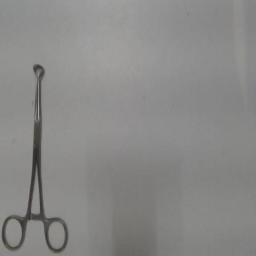Babcock Tissue Forceps: (1, 60, 71, 254)
